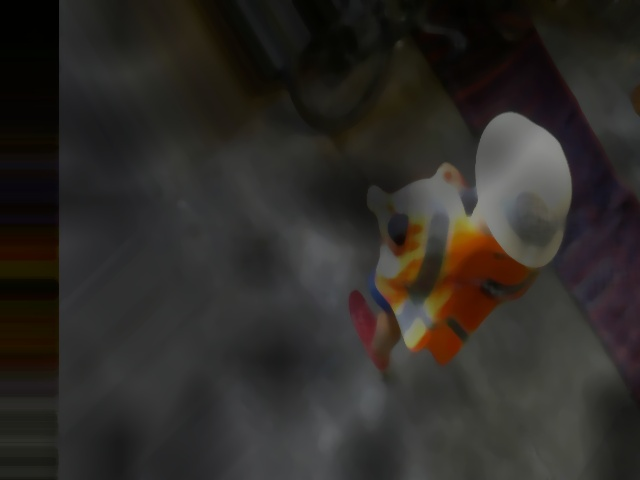eight: (505, 178, 558, 247)
